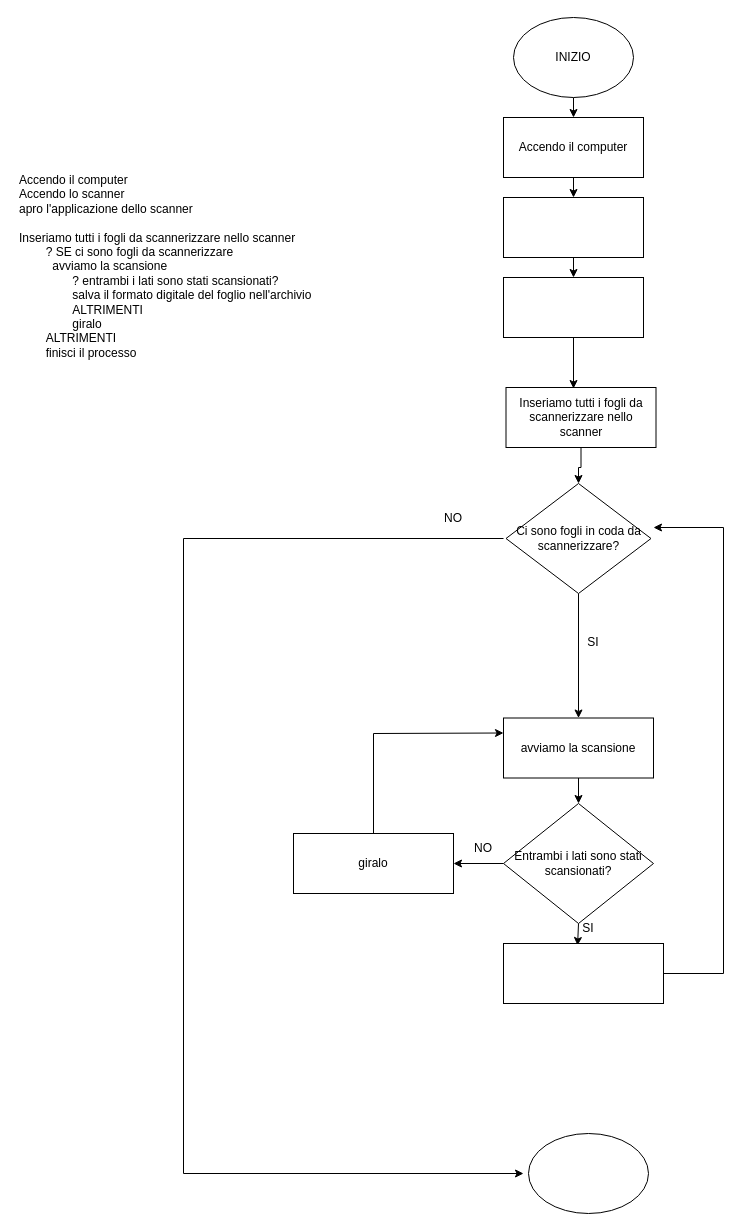
This 749x1231 diagram has some shape labels left out. Here are the shapes that lost their labels. From the top down, the centre of each, then its label:
the point at 573,227: accendo lo scanner
the point at 573,307: apro l'applicazione dello scanner
the point at 583,973: salva il formato digitale del foglio nell'archivio
the point at 588,1173: FINE
